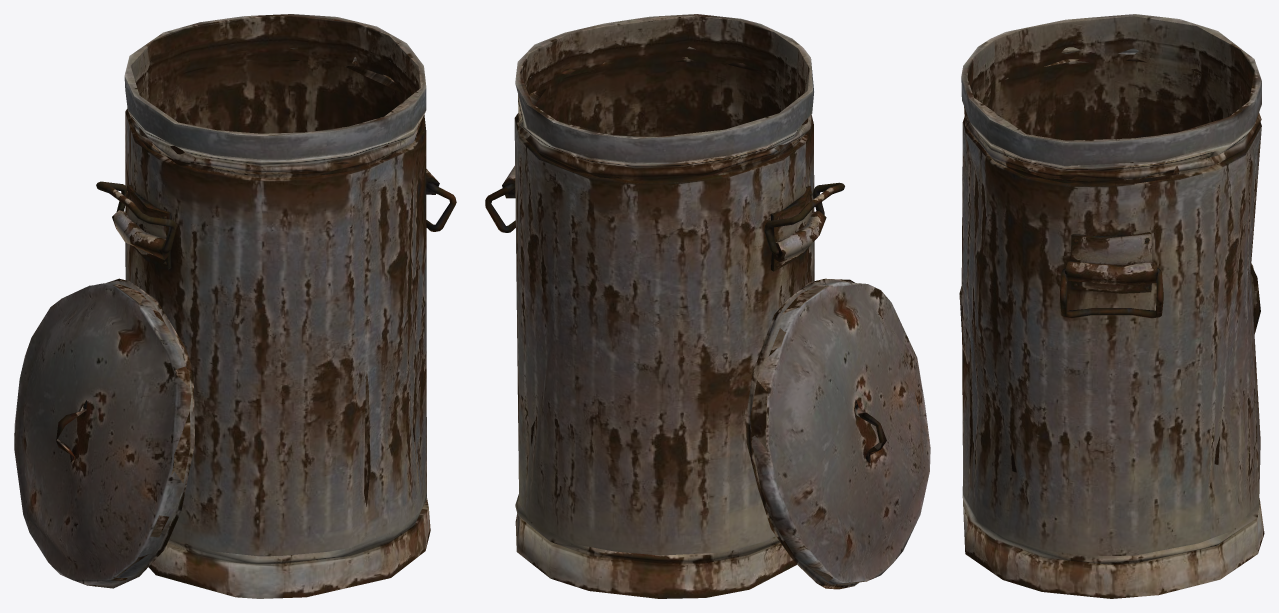
File: ph_trash.glb
3 views of the same model, side by side, from view 1: azimuth 30°, elevation 25°; view 2: azimuth 150°, elevation 25°; view 3: azimuth 270°, elevation 25° (orthographic).
Parts seen in each view (by area): view 1: metal_trash_can_rust, metal_trash_can_rust_lid, metal_trash_can_rust_handle_left; view 2: metal_trash_can_rust, metal_trash_can_rust_lid, metal_trash_can_rust_handle_left, metal_trash_can_rust_handle_right; view 3: metal_trash_can_rust, metal_trash_can_rust_handle_right, metal_trash_can_rust_lid.
Part boxes in pixels (box(x1,y1,x2,y2)): metal_trash_can_rust: box(112, 14, 439, 598); metal_trash_can_rust_lid: box(14, 278, 194, 588); metal_trash_can_rust_handle_left: box(96, 181, 176, 254); metal_trash_can_rust: box(502, 14, 826, 598); metal_trash_can_rust_lid: box(746, 278, 930, 589); metal_trash_can_rust_handle_left: box(764, 182, 844, 255); metal_trash_can_rust_handle_right: box(485, 184, 515, 232); metal_trash_can_rust: box(961, 14, 1264, 598); metal_trash_can_rust_handle_right: box(1060, 267, 1163, 318); metal_trash_can_rust_lid: box(959, 263, 1260, 333).
Size of the model in its own units: 0.7733 by 0.9061 by 0.5465.
1 material, 1 textured.
